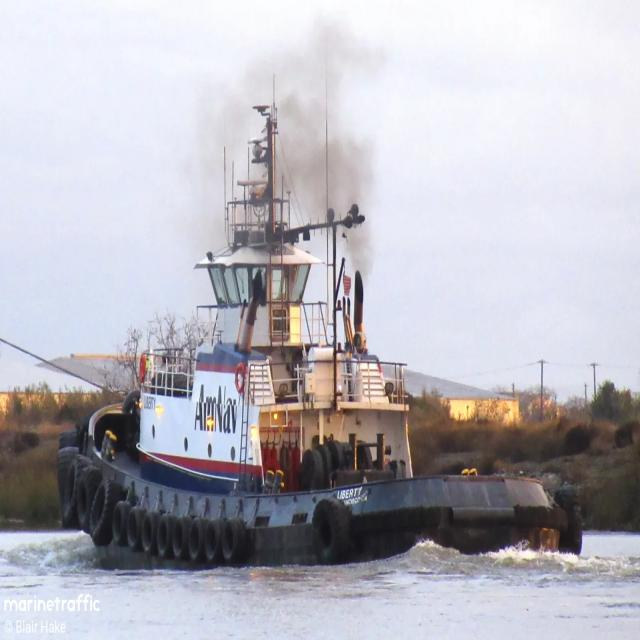Tug: (58, 103, 582, 565)
